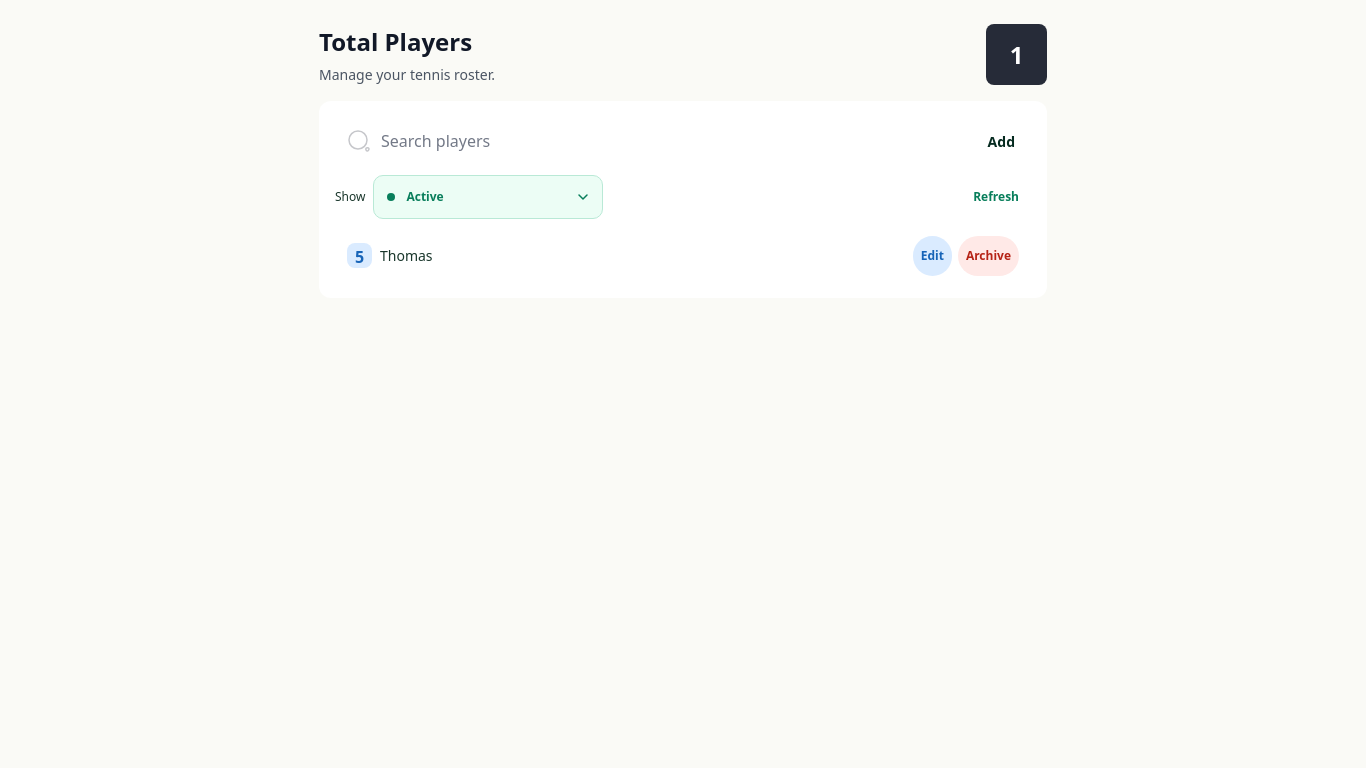
it: normalizes invalid add skill input to one and clamps values above ten
Expected: the text "Thomas" is shown, top-left (380, 245), bottom-right (433, 266)
Click the button "Add": coordinates (1001, 141) top-left (972, 117), bottom-right (1031, 165)
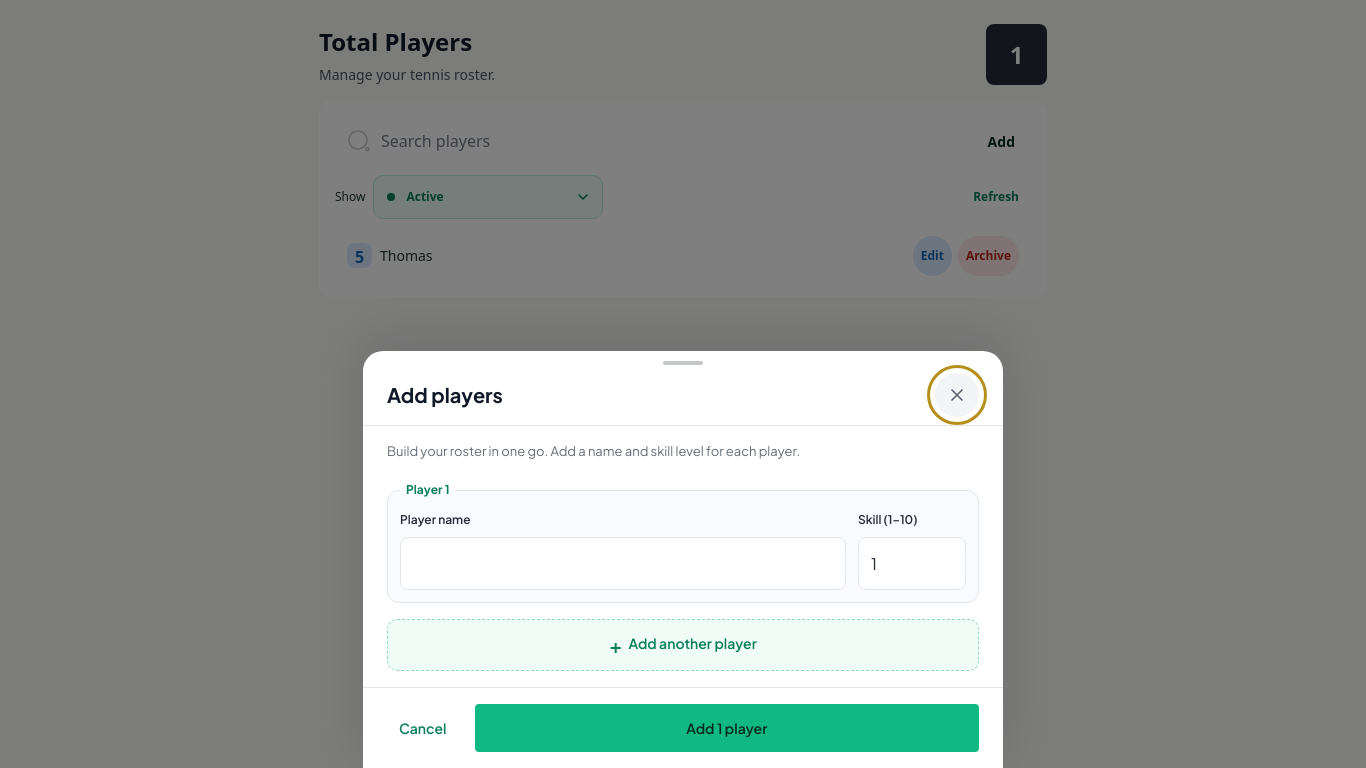
Clear the number field: coordinates (912, 564) top-left (858, 537), bottom-right (966, 590)
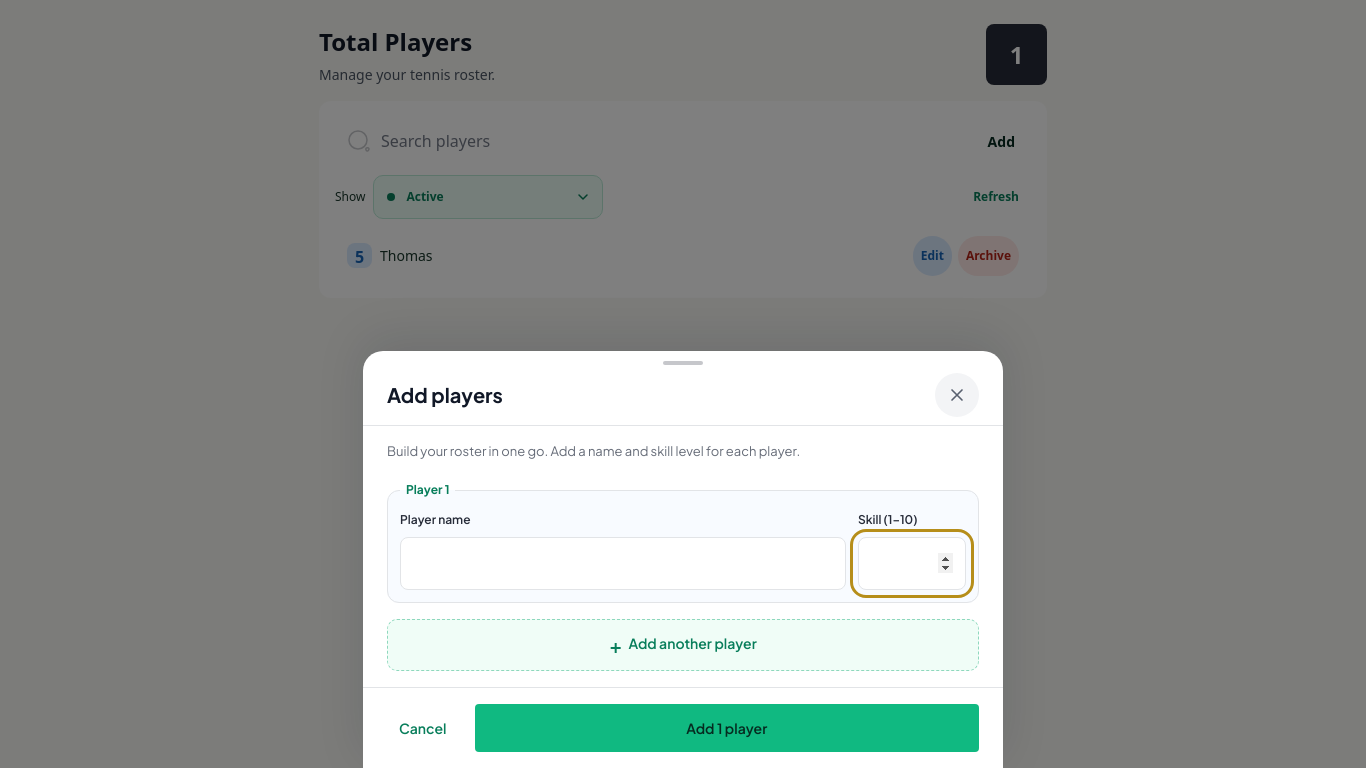
Leave the number field, box top-left (858, 537), bottom-right (966, 590)
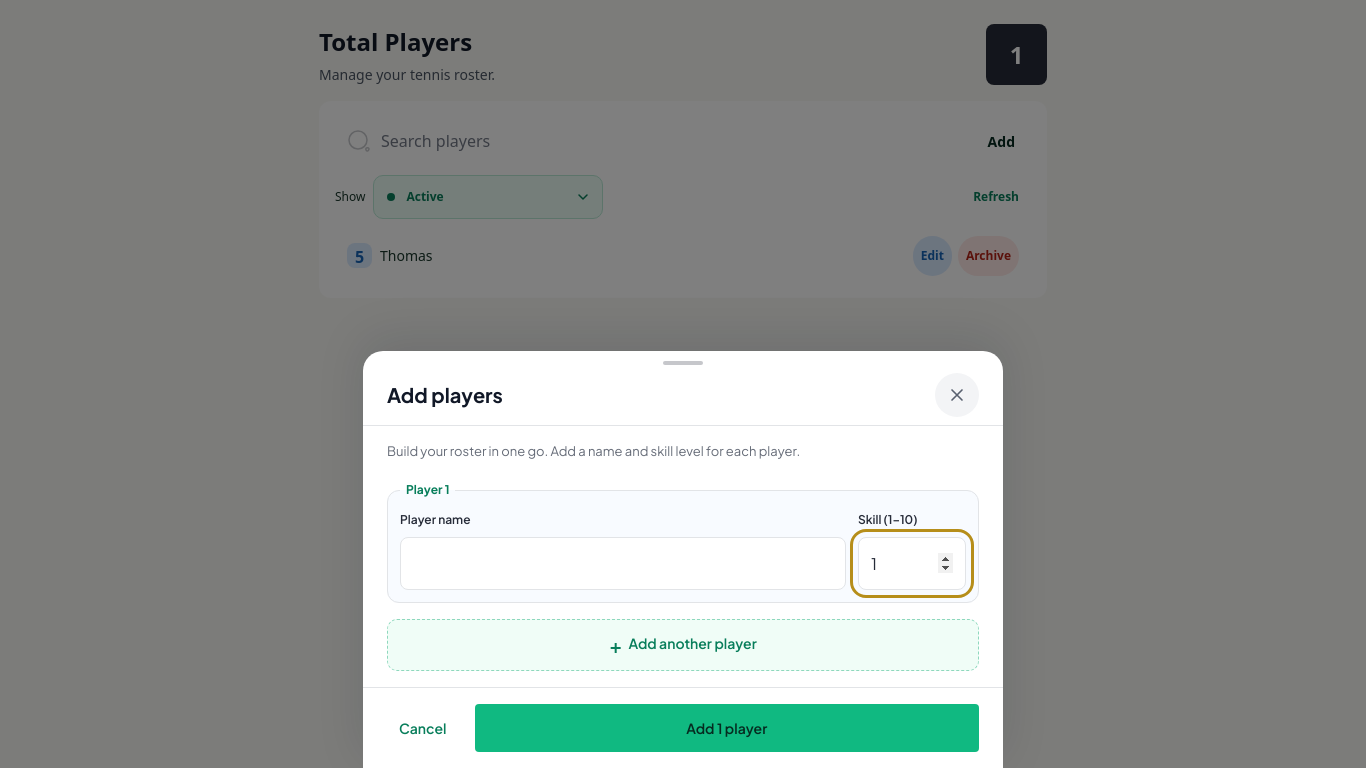
Replace the text in the number field with "11": coordinates (912, 564) top-left (858, 537), bottom-right (966, 590)
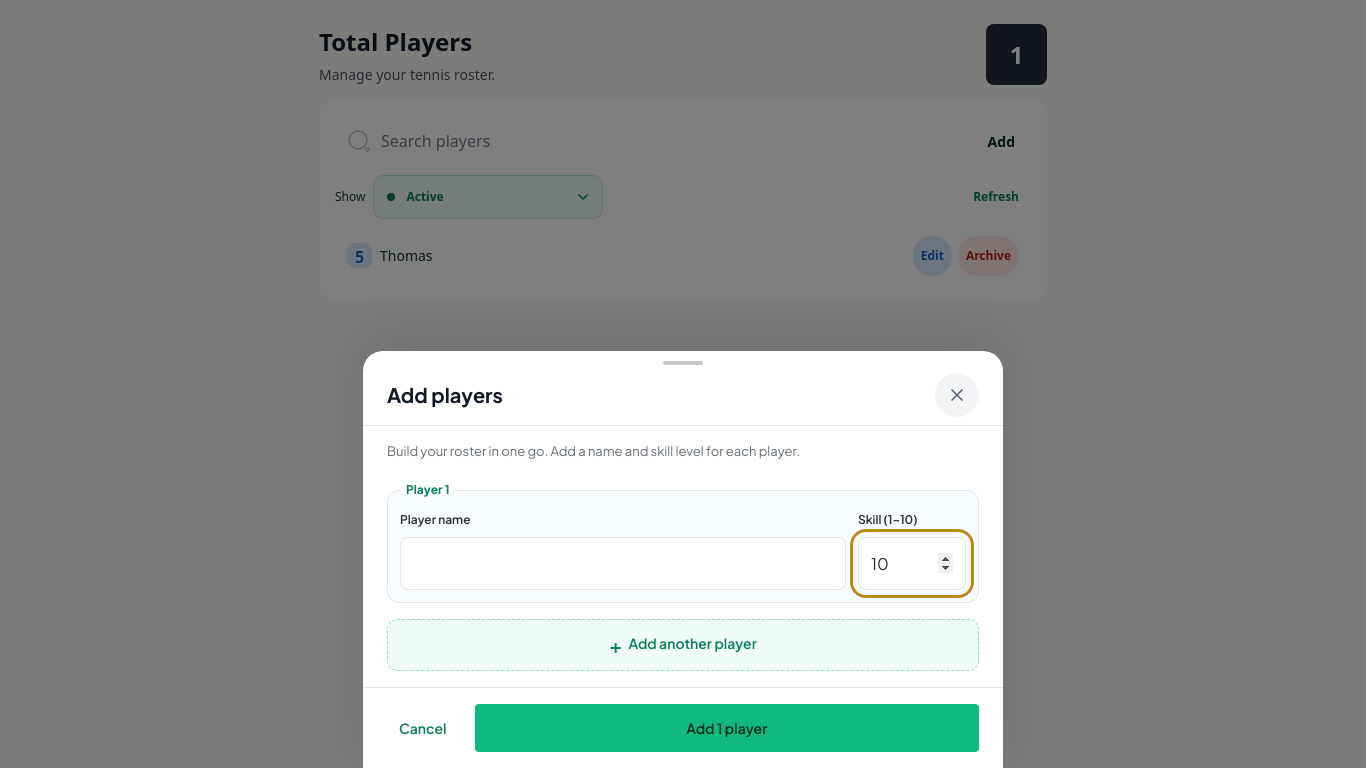
Expected: the number field holds "10", top-left (858, 537), bottom-right (966, 590)
